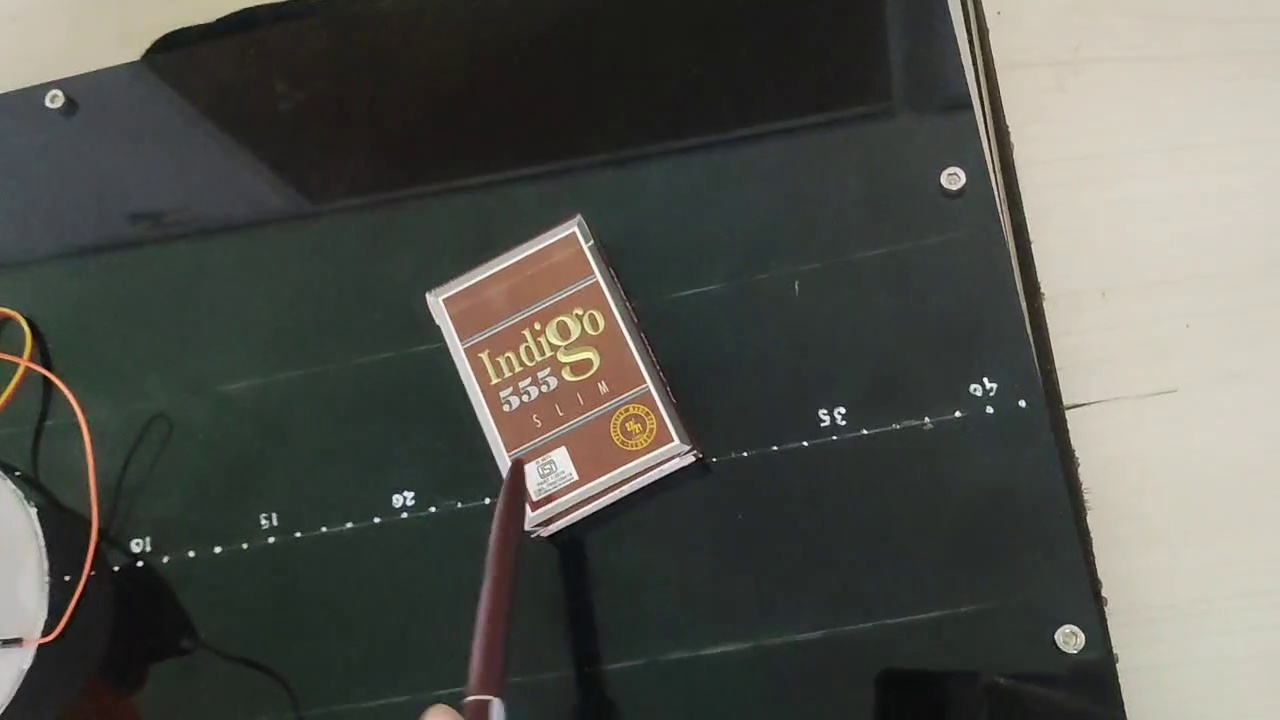BEX: (438, 221, 676, 516)
